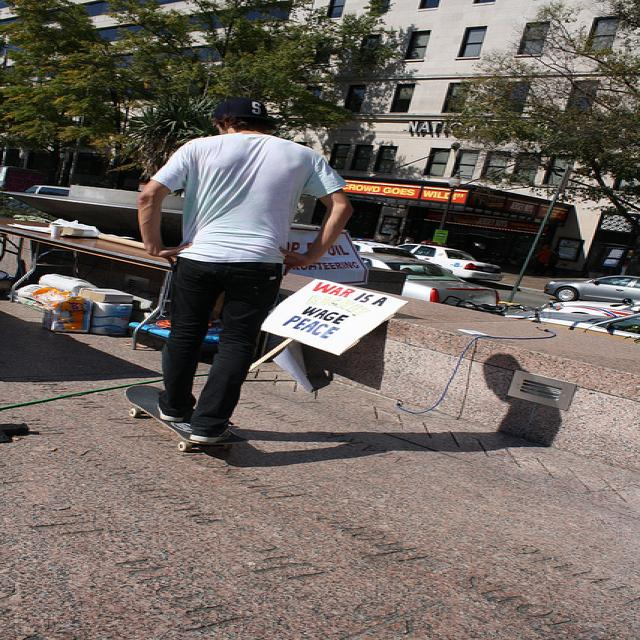Vehicle: (358, 254, 500, 304), (396, 241, 503, 281), (505, 310, 640, 340), (544, 275, 640, 302), (352, 240, 424, 272), (542, 299, 640, 317)
